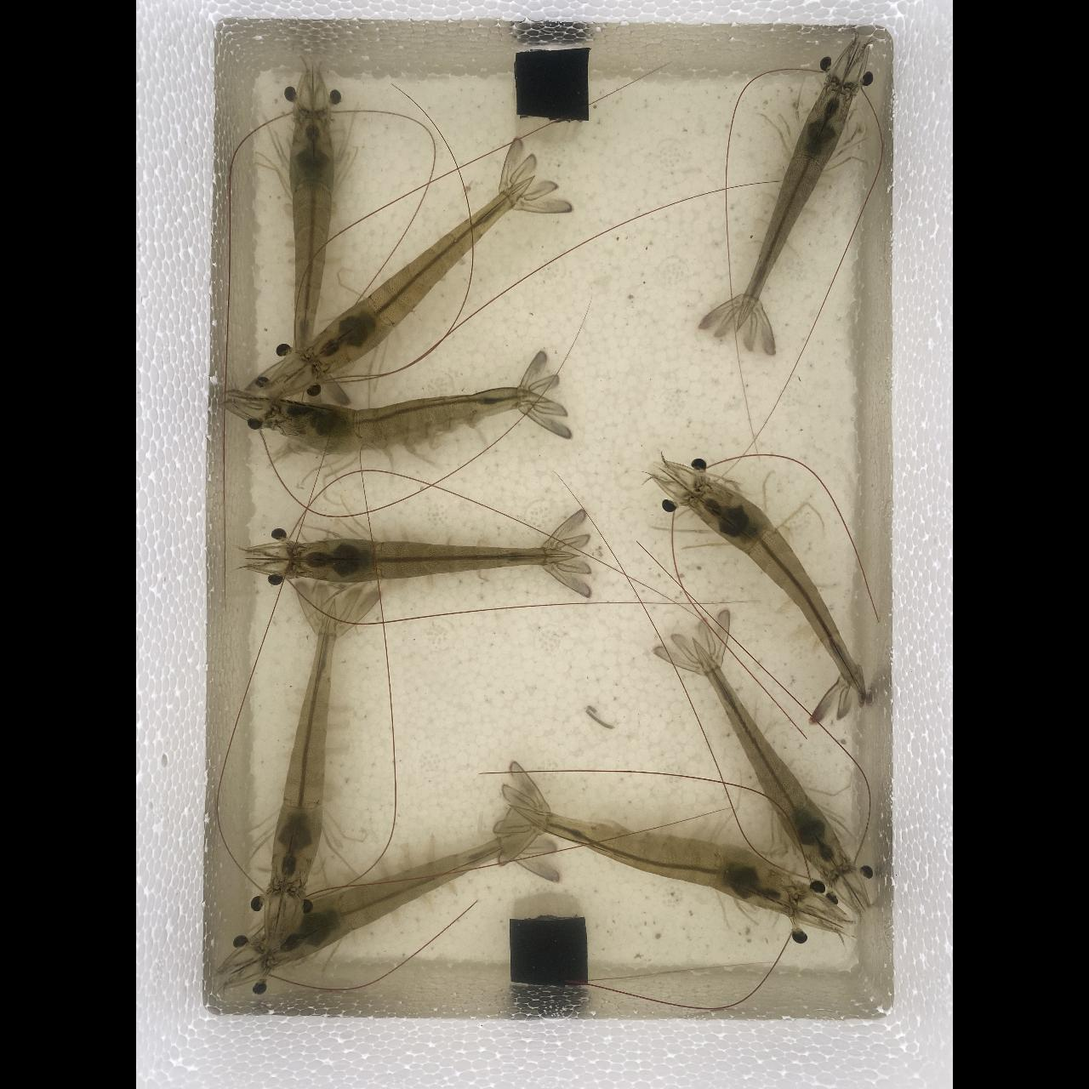box: (510, 917, 589, 987), (516, 49, 589, 119)
top_shrimp: (305, 180, 533, 374), (694, 643, 847, 883), (689, 483, 863, 693), (264, 830, 534, 965), (738, 83, 849, 328), (524, 813, 798, 910), (272, 619, 334, 898), (271, 390, 543, 449), (288, 539, 575, 584), (291, 114, 332, 366)
